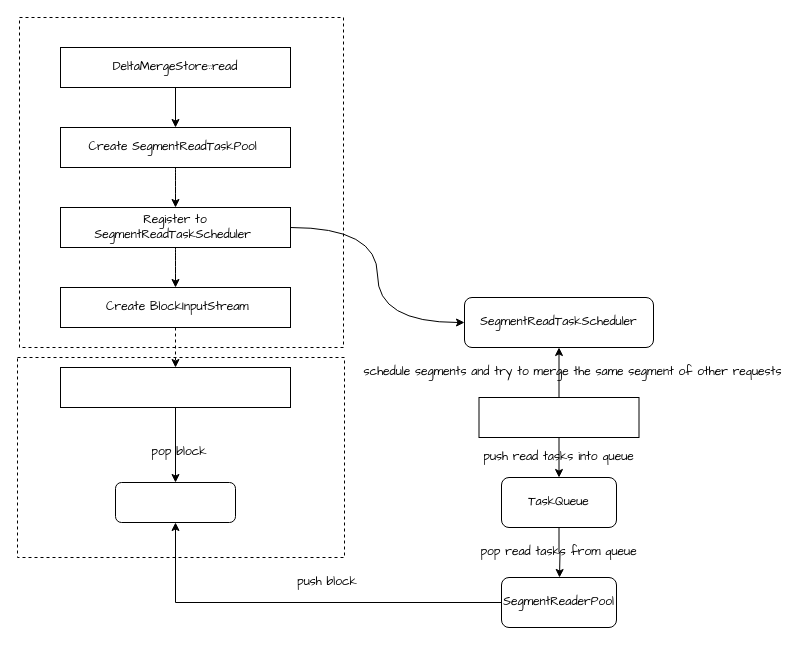
Some shapes in this 809 by 645 pixel diagram are drawn without their labels. Here are the shapes that lost their labels. From the top down, the centre of each, then its label:
(x=175, y=387): BlockInputStream::read
(x=558, y=417): Scheduler Thread
(x=175, y=502): Block Queue
